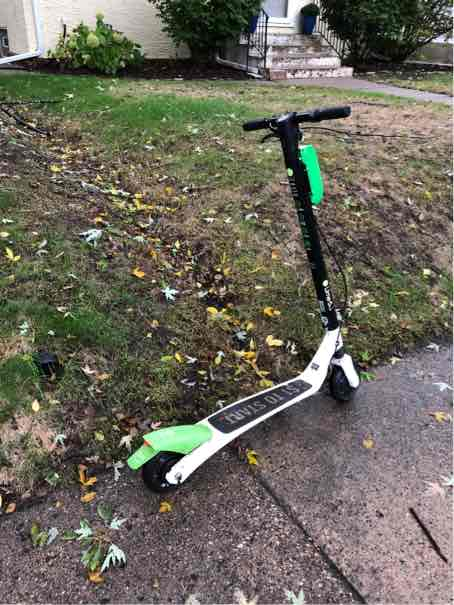scooter: (118, 89, 371, 500)
